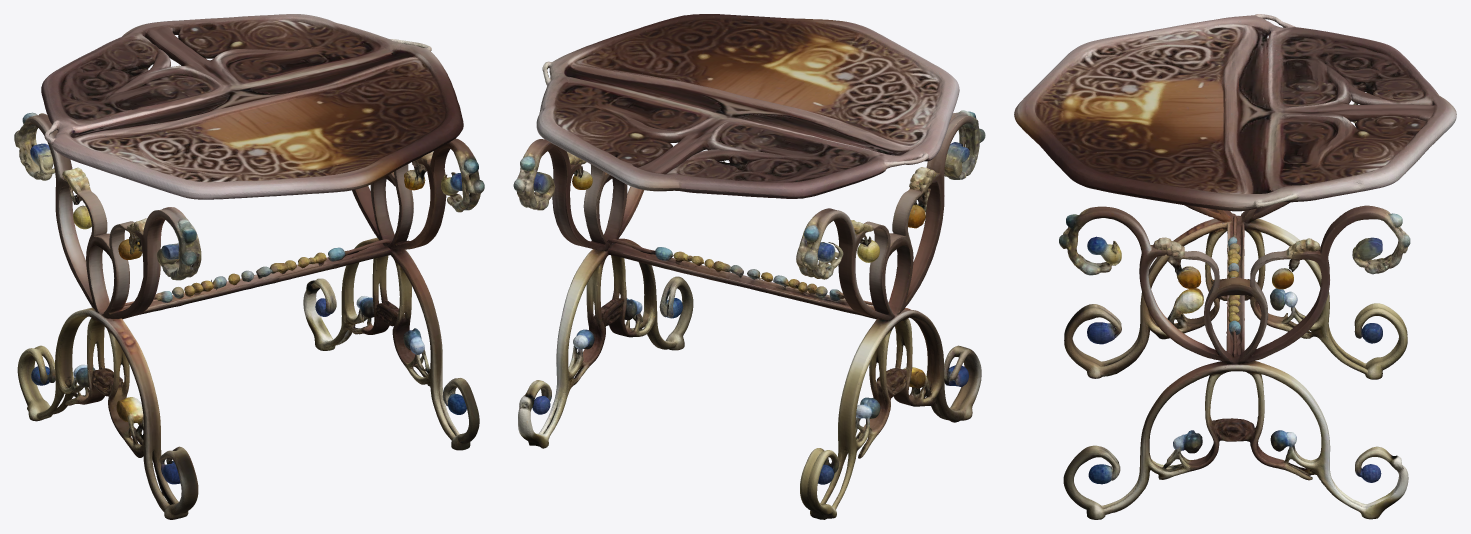
The picture shows the model from 3 angles, left to right: view 1: azimuth 30°, elevation 25°; view 2: azimuth 150°, elevation 25°; view 3: azimuth 270°, elevation 25°; orthographic projection. The views are drawn at different scales.
Visible parts, largest first — view 1: part_0, part_1; view 2: part_0, part_1; view 3: part_0, part_1.
Part boxes in pixels (bbox=[...]): part_0: bbox=[41, 14, 463, 199]; part_1: bbox=[14, 112, 484, 519]; part_0: bbox=[536, 14, 959, 198]; part_1: bbox=[513, 110, 985, 519]; part_0: bbox=[1014, 14, 1456, 211]; part_1: bbox=[1059, 103, 1410, 519].
Size of the model in its own units: 0.998 by 0.8286 by 0.9808.
Materials: 2 (2 with a texture image).
